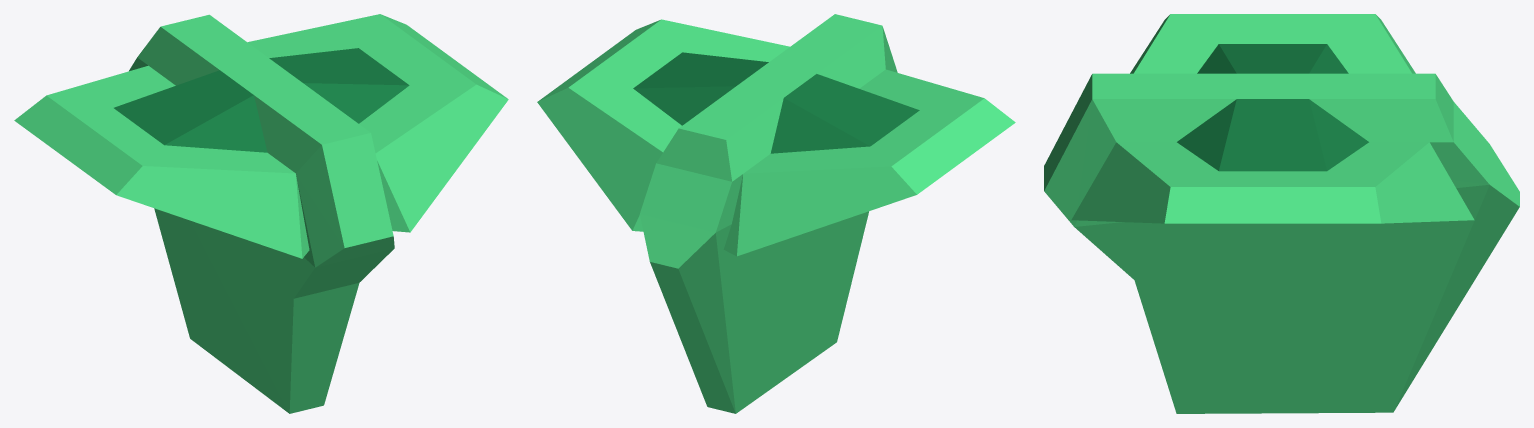
Rendered from under.FBX.
3 views of the same model, side by side, from view 1: azimuth 30°, elevation 25°; view 2: azimuth 150°, elevation 25°; view 3: azimuth 270°, elevation 25° (orthographic). The views are drawn at different scales.
Parts seen in each view (by area): view 1: VIFS001, VIFS002; view 2: VIFS001, VIFS002; view 3: VIFS001, VIFS002.
Boxes of the visible parts, x1,y1,x2,y2 form: VIFS001: (14, 14, 508, 413); VIFS002: (114, 48, 409, 152); VIFS001: (537, 14, 1015, 413); VIFS002: (633, 52, 919, 153); VIFS001: (1044, 14, 1519, 413); VIFS002: (1177, 44, 1368, 171).
Bounding box in the file's own units: 0.8 × 0.584 × 0.79.
